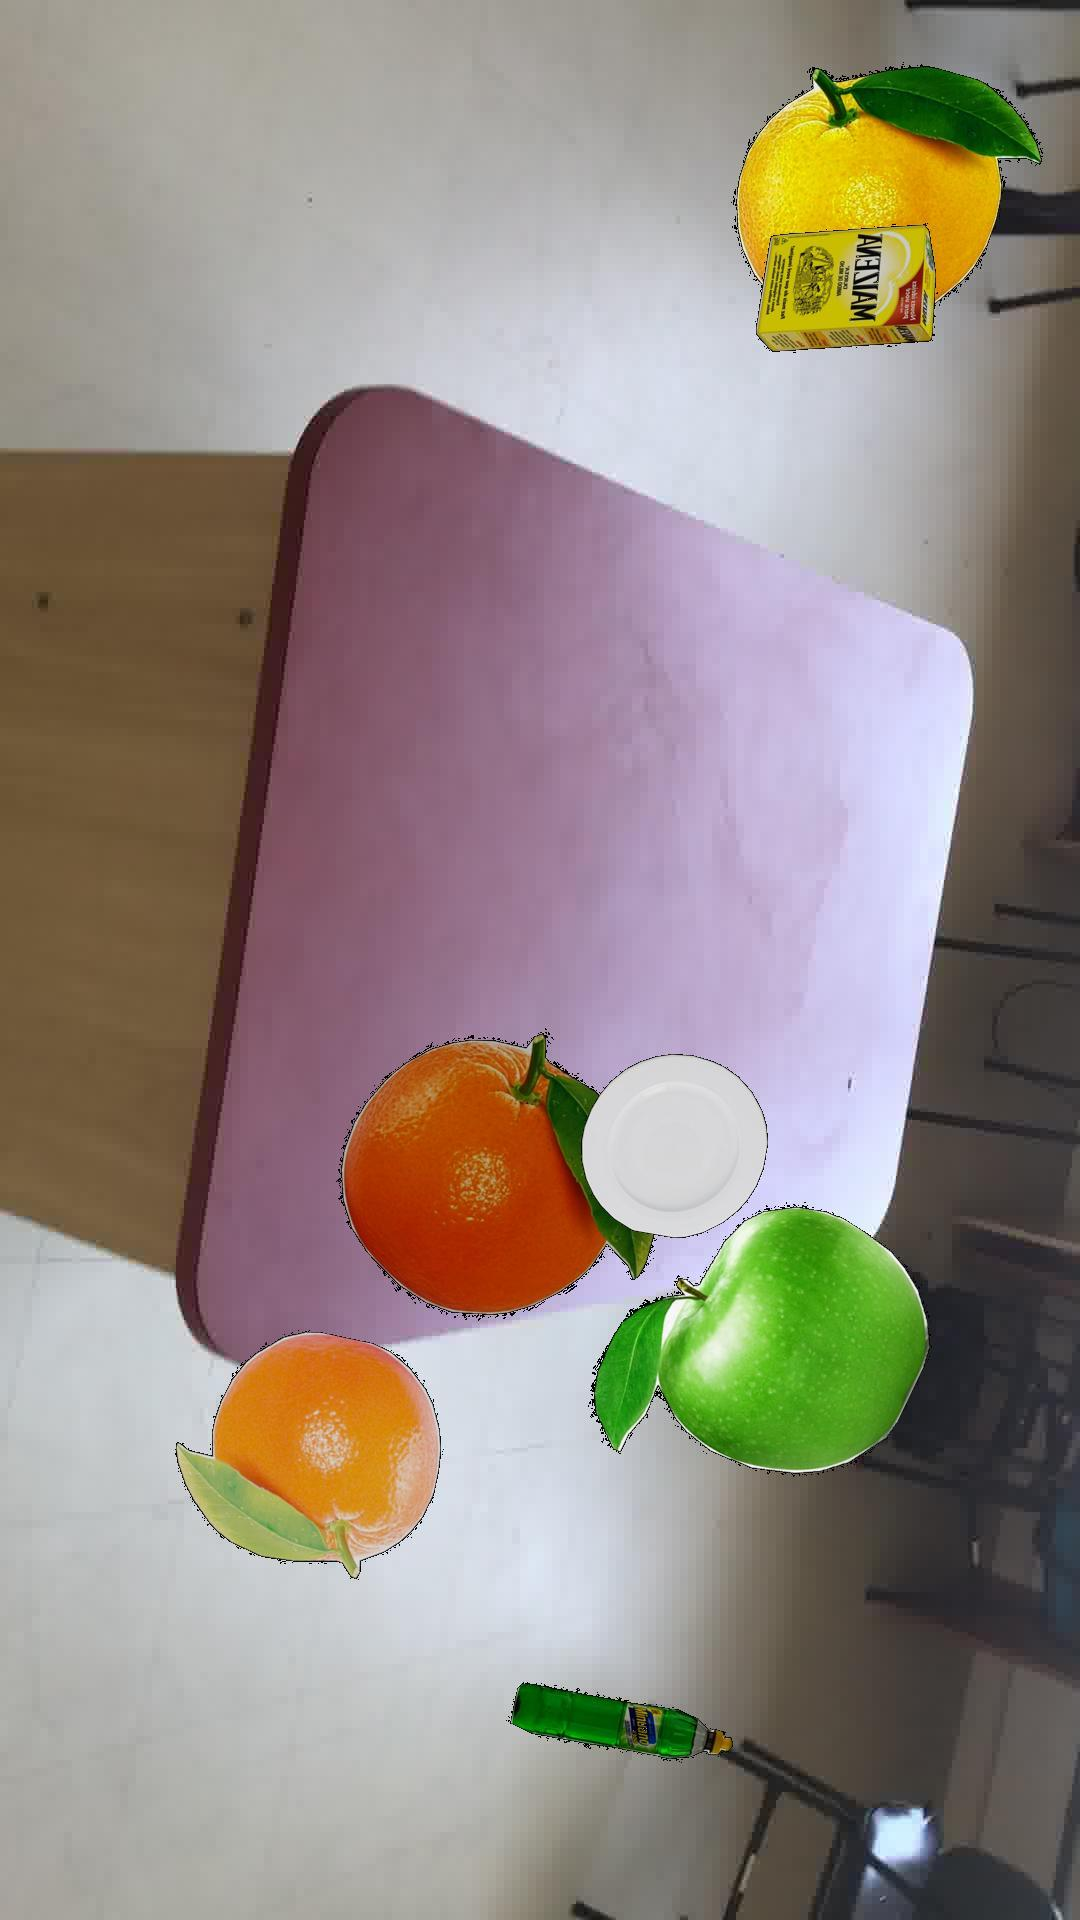cleaner: (509, 1680, 732, 1759)
green apple: (588, 1204, 930, 1474)
orange: (335, 1031, 654, 1316), (732, 62, 1042, 302), (174, 1329, 439, 1577)
plate: (579, 1052, 766, 1237)
